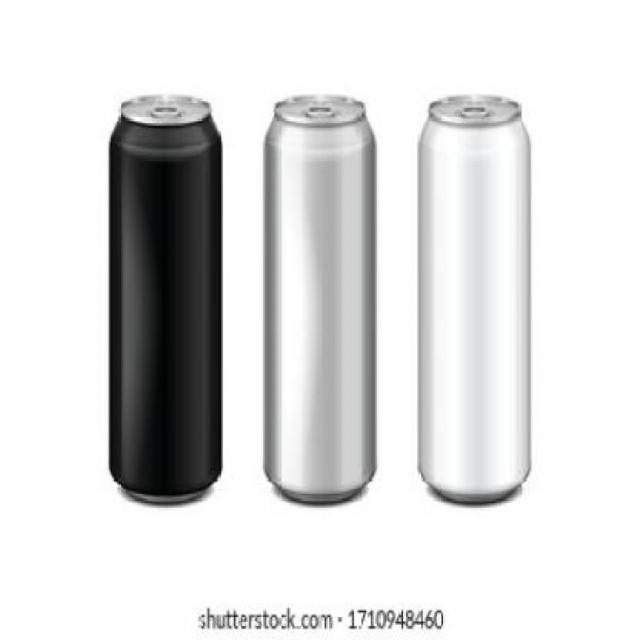can: (264, 91, 379, 508), (110, 91, 224, 508), (418, 90, 530, 508)
